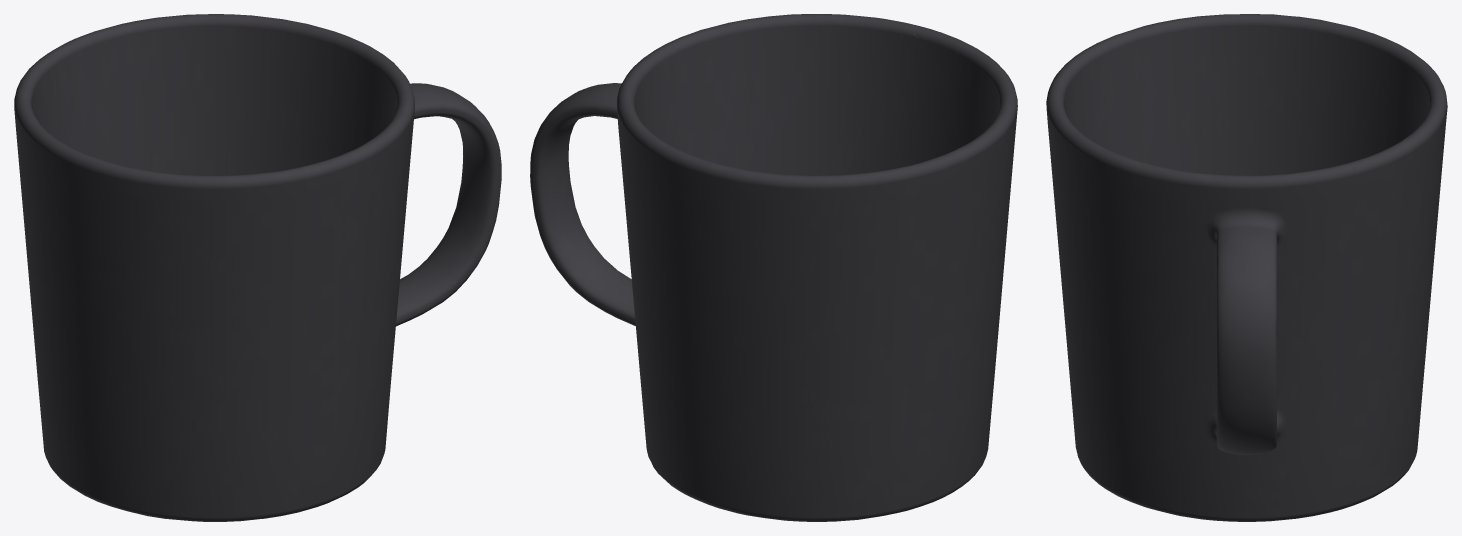
The model's file is dinera_kubek_30362820.glb.
3 views of the same model, side by side, from view 1: azimuth 30°, elevation 25°; view 2: azimuth 150°, elevation 25°; view 3: azimuth 270°, elevation 25° (orthographic).
Parts seen in each view (by area): view 1: dinera_kubek_30362820; view 2: dinera_kubek_30362820; view 3: dinera_kubek_30362820.
Boxes of the visible parts, bbox=[...] form: dinera_kubek_30362820: bbox=[14, 14, 501, 521]; dinera_kubek_30362820: bbox=[530, 14, 1017, 521]; dinera_kubek_30362820: bbox=[1046, 14, 1447, 521].
Size of the model in its own units: 0.1174 by 0.0885 by 0.0901.
Materials: 1 (1 with a texture image).
